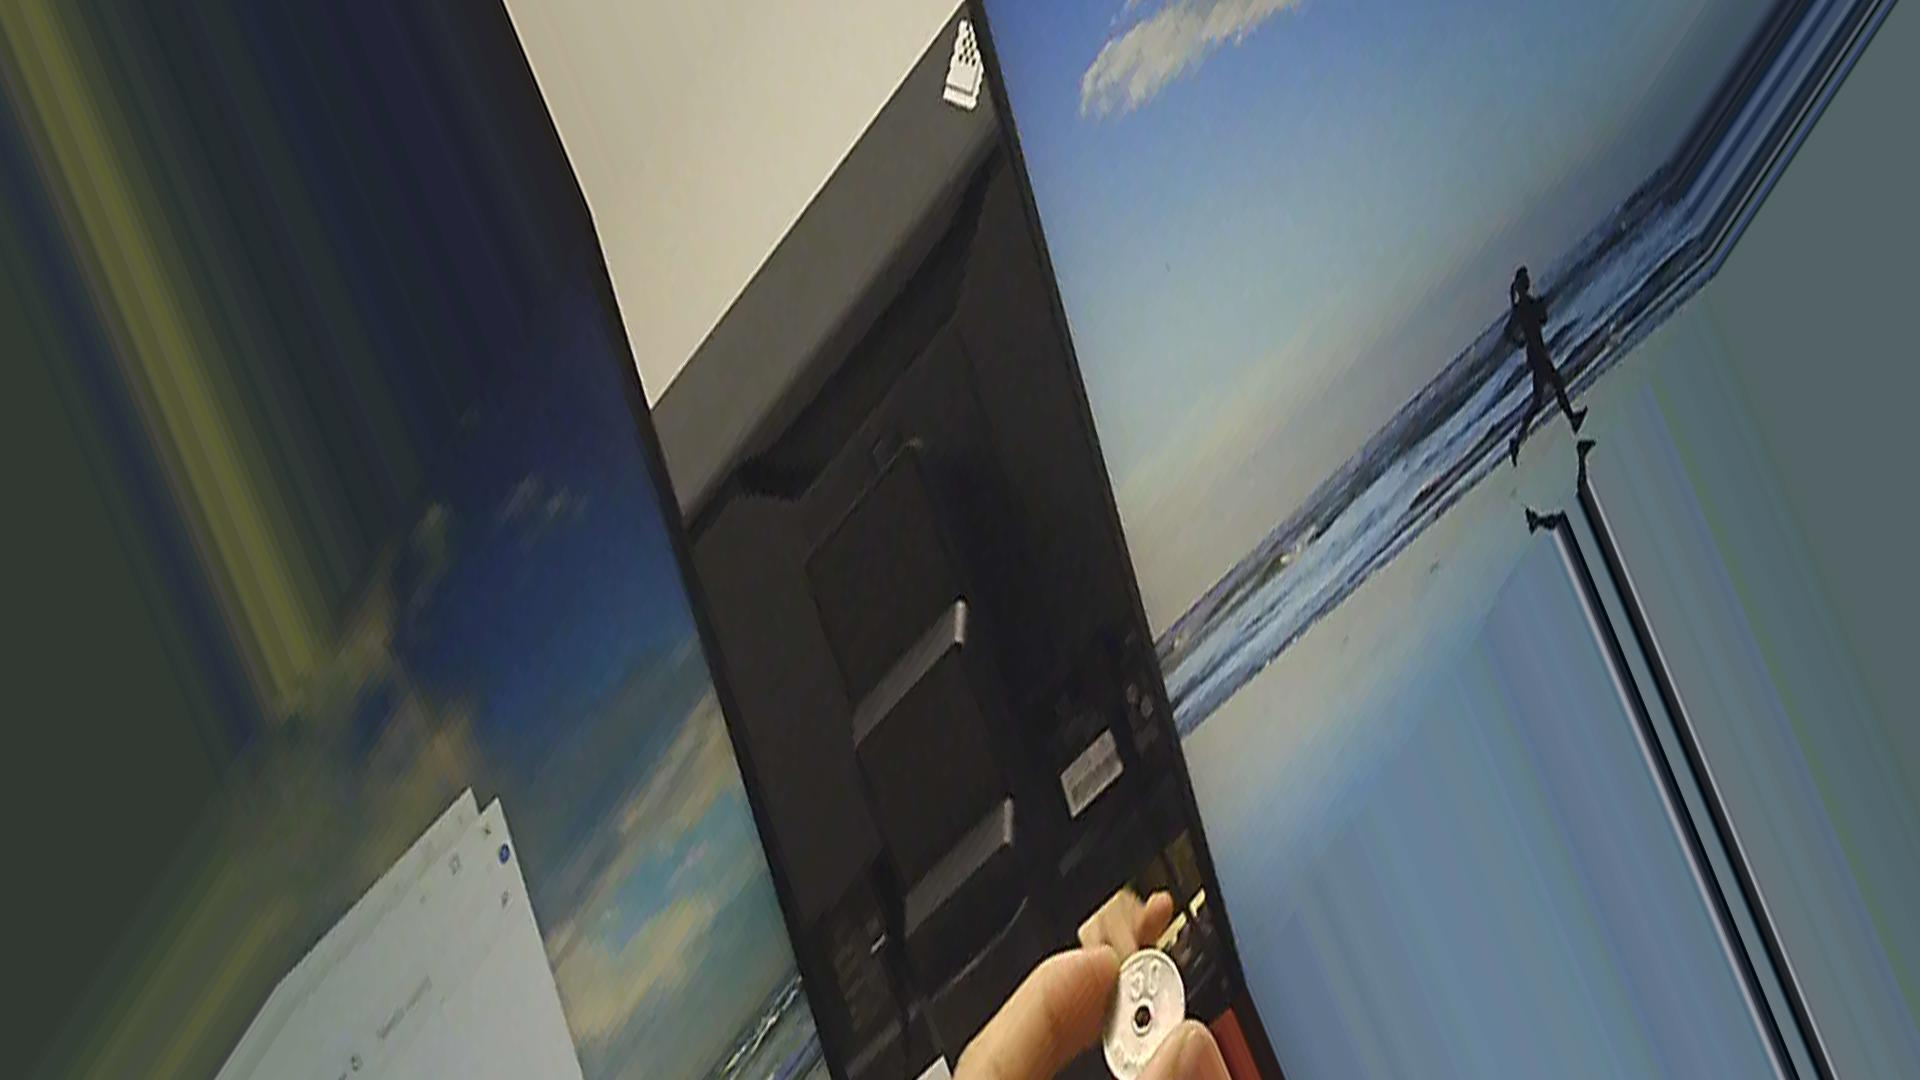50 Yen: (1080, 952, 1197, 1079)
